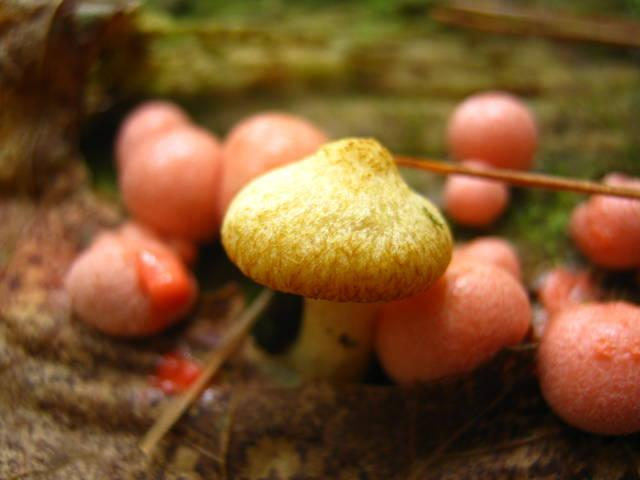Non-edible Mushroom: (86, 69, 640, 346), (219, 135, 454, 381), (62, 219, 198, 338), (535, 298, 639, 435)
